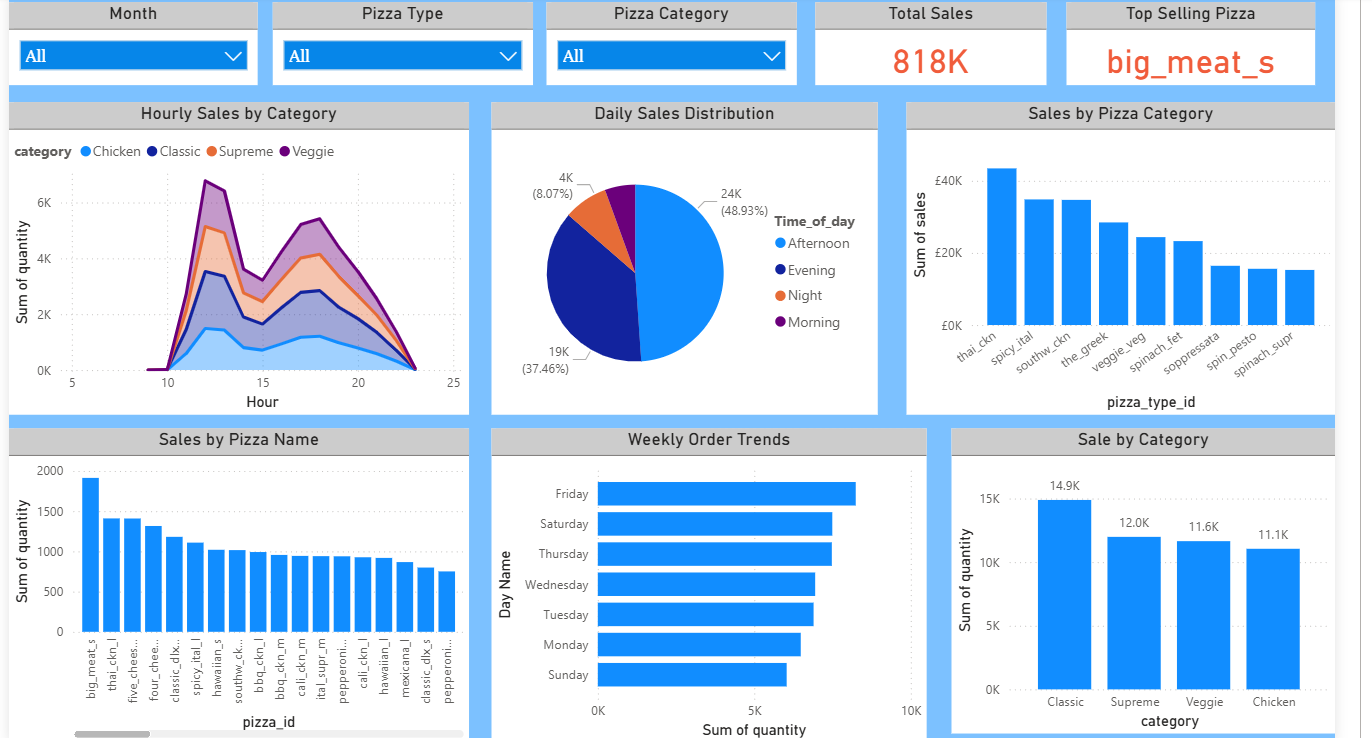

This screenshot's page, from the dashboard's own definition file:
{"tool":"powerbi","page":{"name":"Page 1","canvas":[1280,720],"ordinal":0},"visuals":[{"type":"clusteredBarChart","fields":{"Category":["orders.Day Name"],"Y":["Sum(order_details.quantity)"]},"box":[10,0,304.3,305.7],"z":0},{"type":"columnChart","fields":{"Category":["order_details.pizza_id"],"Y":["Sum(order_details.quantity)"]},"box":[10,360,372.9,360],"z":1},{"type":"pieChart","fields":{"Y":["Sum(order_details.quantity)"],"Category":["orders.Time_of_day"]},"box":[348.6,0,372.9,268.6],"z":2},{"type":"columnChart","title":"Hot selling Category of pizza","fields":{"Category":["pizza_types.category"],"Y":["Sum(order_details.quantity)"]},"box":[422.9,360,374.3,358.6],"z":3},{"type":"card","fields":{"Values":["pizzas.Total Sales"]},"box":[677.1,0,278.6,82.9],"z":6},{"type":"card","fields":{"Values":["order_details.Most Ordered Pizza"]},"box":[887.1,14.3,352.9,82.9],"z":7},{"type":"columnChart","fields":{"Y":["CountNonNull(pizzas.sales)"],"Category":["pizzas.pizza_type_id"]},"box":[817.1,422.9,318.6,297.1],"z":8},{"type":"lineChart","fields":{"Y":["Sum(order_details.order_details_id)"],"Category":["orders.Hour"]},"box":[898.6,157.1,300,235.7],"z":9},{"type":"qnaVisual","box":[1130,422.9,150,297.1],"z":10}]}

Visuals, with their boxes on the page's 1280x720 design canvas (x1, y1, x2, y2). These are canvas units, not pixel positions in the 1372x738 screenshot, which may show the page scaled, cropped or inside an application window:
clusteredBarChart - orders.Day Name x Sum(order_details.quantity): bbox=(10, 0, 314, 306)
columnChart - order_details.pizza_id x Sum(order_details.quantity): bbox=(10, 360, 383, 720)
pieChart - Sum(order_details.quantity) x orders.Time_of_day: bbox=(349, 0, 722, 269)
"Hot selling Category of pizza" columnChart: bbox=(423, 360, 797, 719)
card - pizzas.Total Sales: bbox=(677, 0, 956, 83)
card - order_details.Most Ordered Pizza: bbox=(887, 14, 1240, 97)
columnChart - CountNonNull(pizzas.sales) x pizzas.pizza_type_id: bbox=(817, 423, 1136, 720)
lineChart - Sum(order_details.order_details_id) x orders.Hour: bbox=(899, 157, 1199, 393)
qnaVisual: bbox=(1130, 423, 1280, 720)
